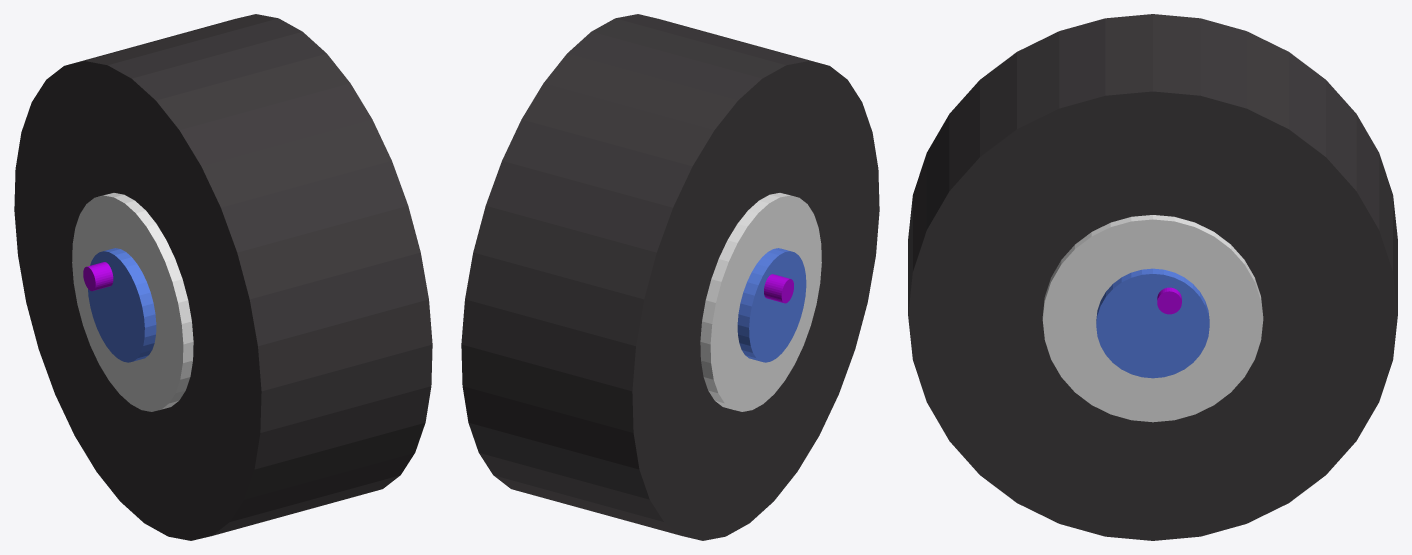
The model's file is wheel.gltf.
3 renders of one model, left to right at view 1: azimuth 30°, elevation 25°; view 2: azimuth 150°, elevation 25°; view 3: azimuth 270°, elevation 25°, orthographic.
Parts seen in each view (by area): view 1: Cylinder, Cylinder.001, Cylinder.002, Cylinder.003; view 2: Cylinder, Cylinder.001, Cylinder.002, Cylinder.003; view 3: Cylinder, Cylinder.001, Cylinder.002.
Boxes of the visible parts, <box> form: Cylinder: <box>14,14,432,540</box>; Cylinder.001: <box>72,193,193,411</box>; Cylinder.002: <box>88,248,156,362</box>; Cylinder.003: <box>83,262,113,291</box>; Cylinder: <box>461,14,879,540</box>; Cylinder.001: <box>700,193,821,411</box>; Cylinder.002: <box>737,248,806,362</box>; Cylinder.003: <box>764,274,793,303</box>; Cylinder: <box>908,14,1397,540</box>; Cylinder.001: <box>1042,215,1263,422</box>; Cylinder.002: <box>1096,268,1209,378</box>.
Size of the model in its own units: 1.13 by 2.02 by 2.
